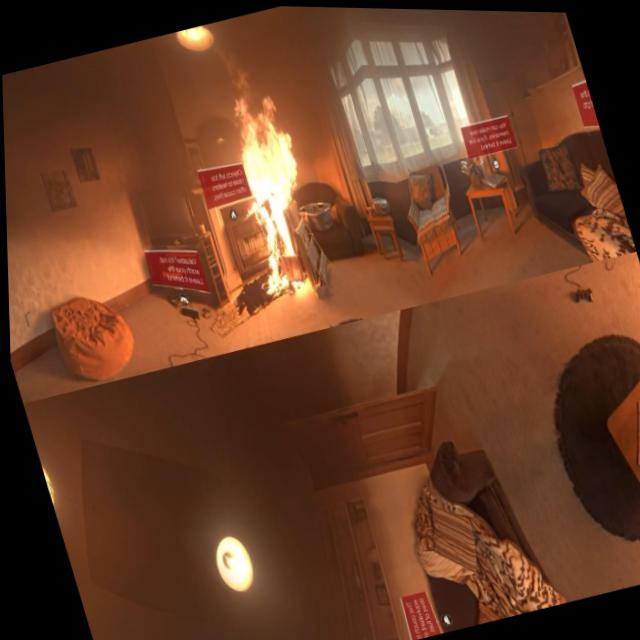fire: (205, 70, 337, 306)
